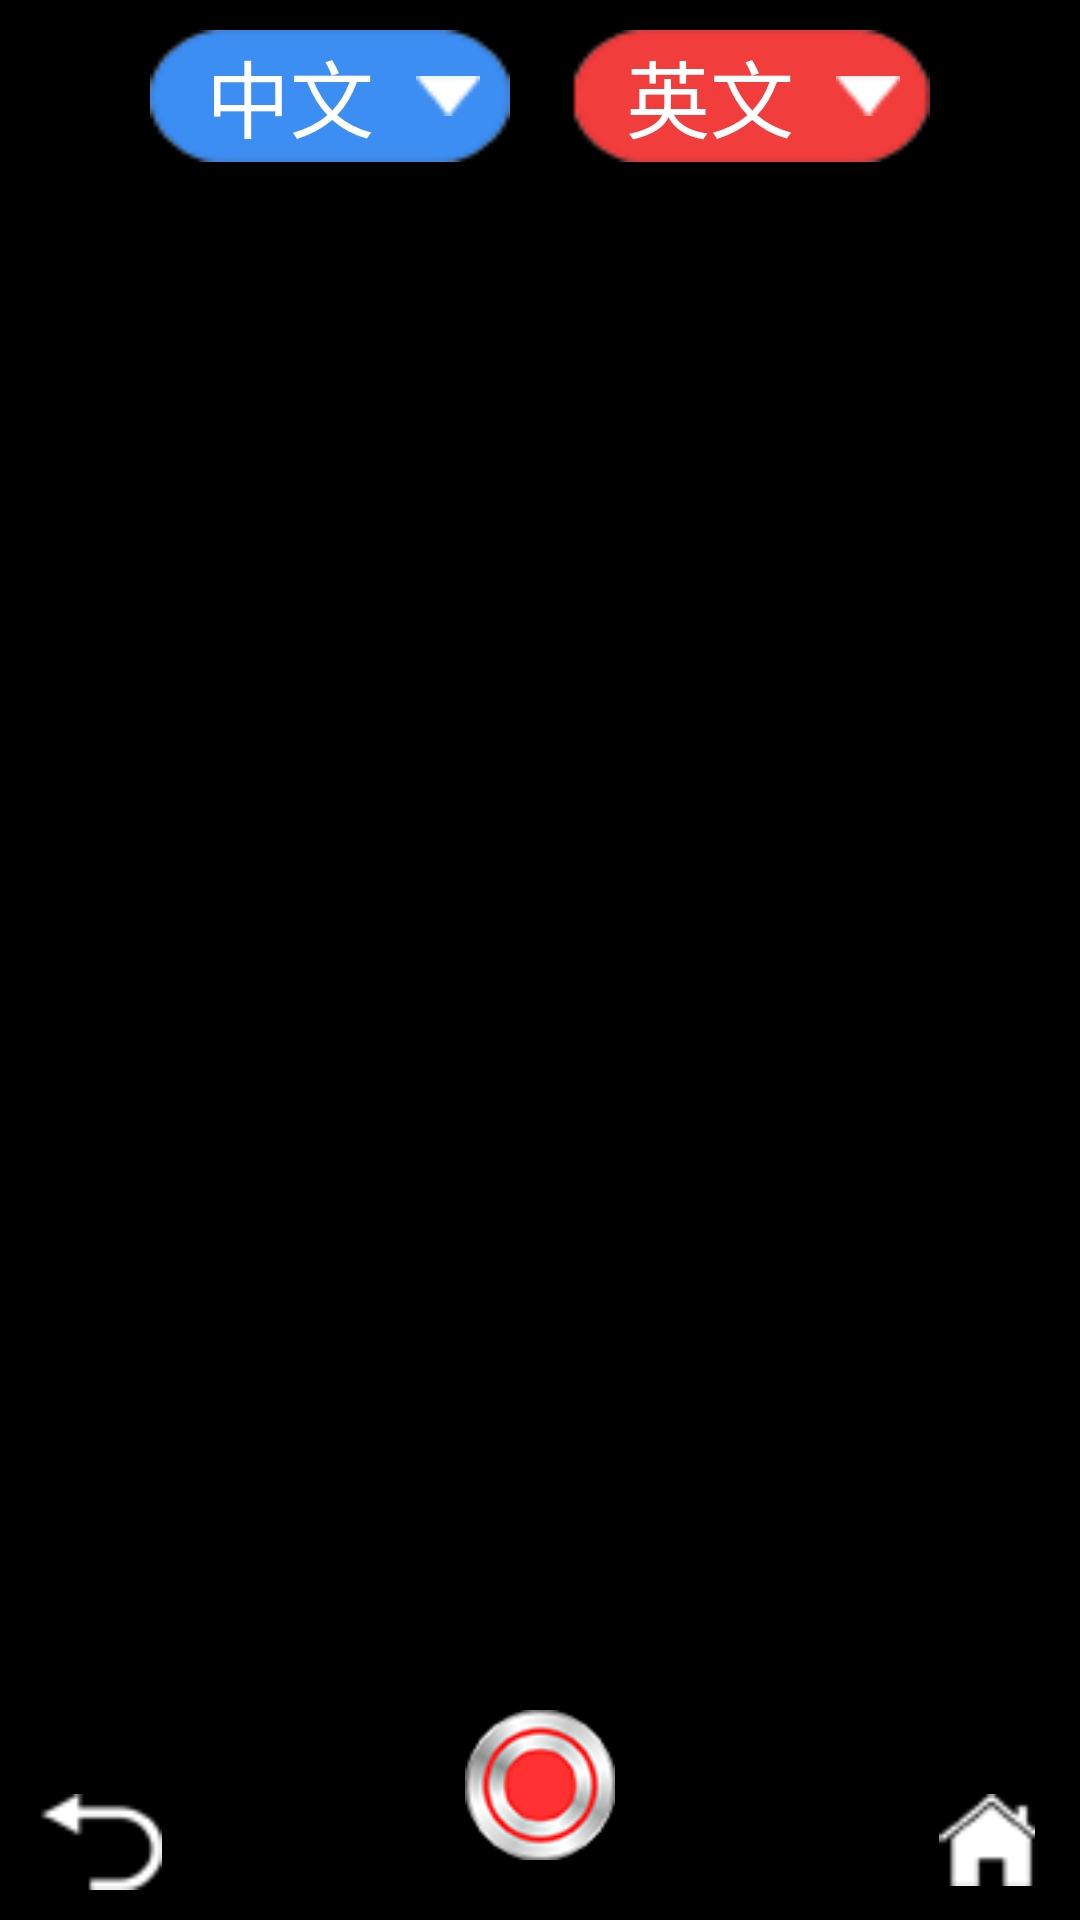

Where icons sit on this 1080*1920 app screen, as (x1, y1, x2, y2):
home: (939, 1794, 1035, 1886)
retrun: (41, 1794, 162, 1890)
sanjiao: (416, 76, 480, 116), (836, 76, 900, 116)
